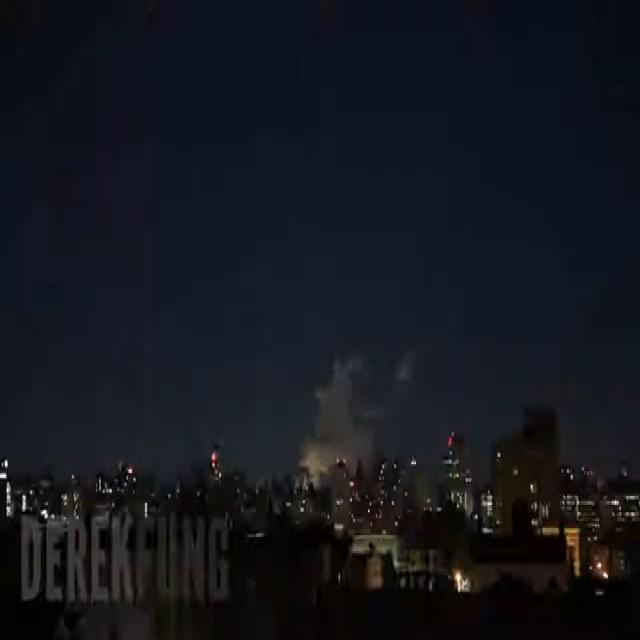smoke: (300, 356, 383, 482), (396, 350, 415, 380)
